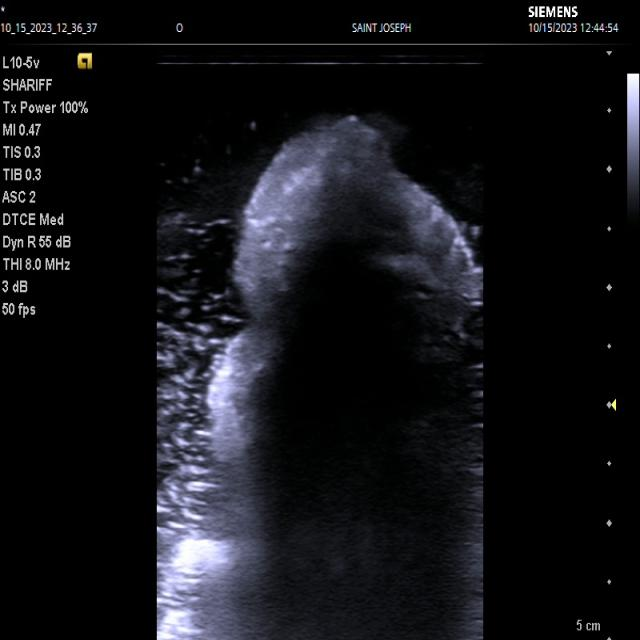tissue: (166, 114, 486, 640)
